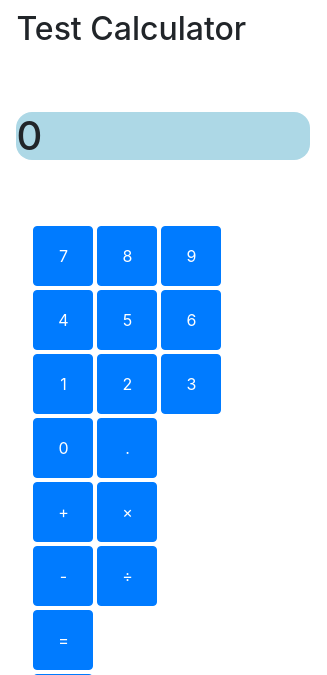
Test: Basic Button presses › pressing 1 and 3 displays 13
Click the button "1": (63, 384) [33,354,93,414]
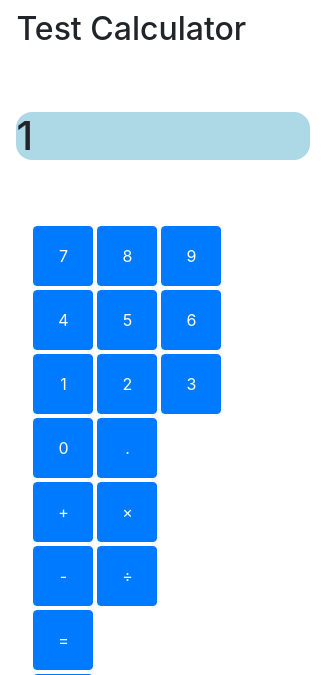
Click the button "3": (191, 384) [161,354,221,414]
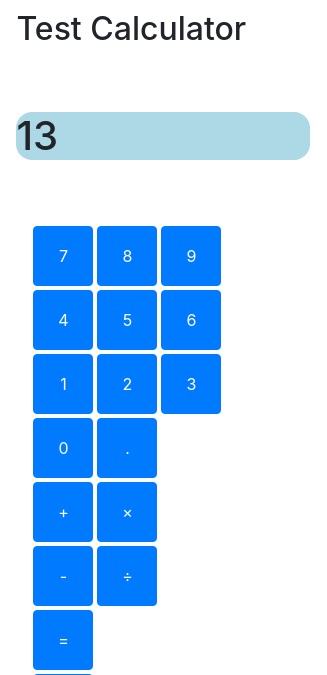
expect the heading with test id "display" reads "13": met, box [16,111,58,160]
